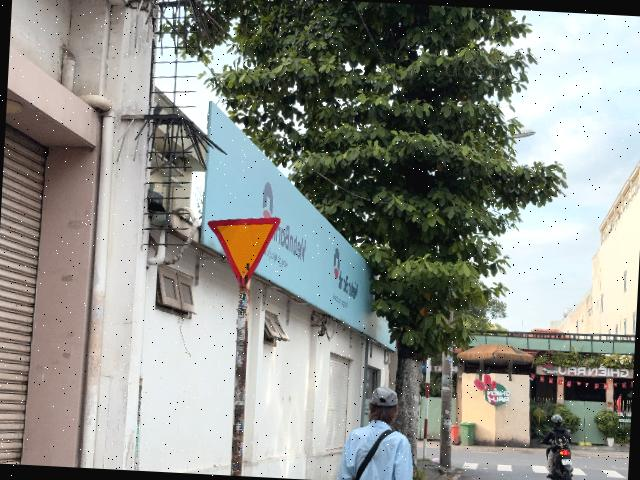giao-nhau-voi-duong-uu-tien: (203, 214, 282, 290)
